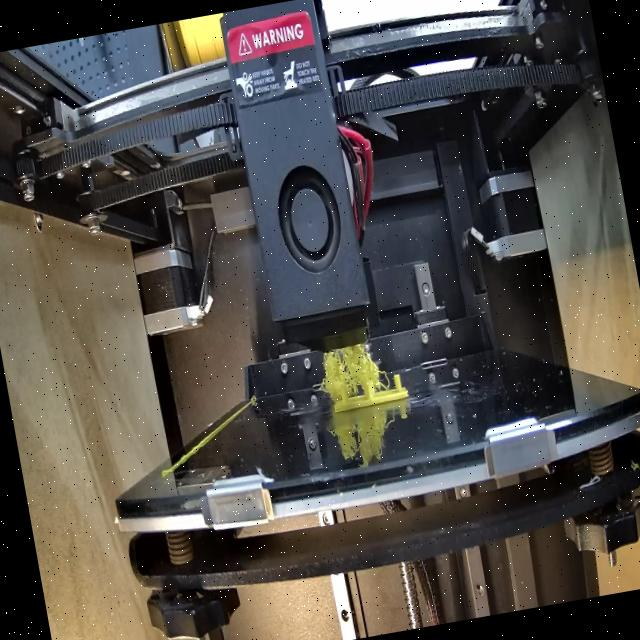spaghetti: (314, 341, 388, 400)
